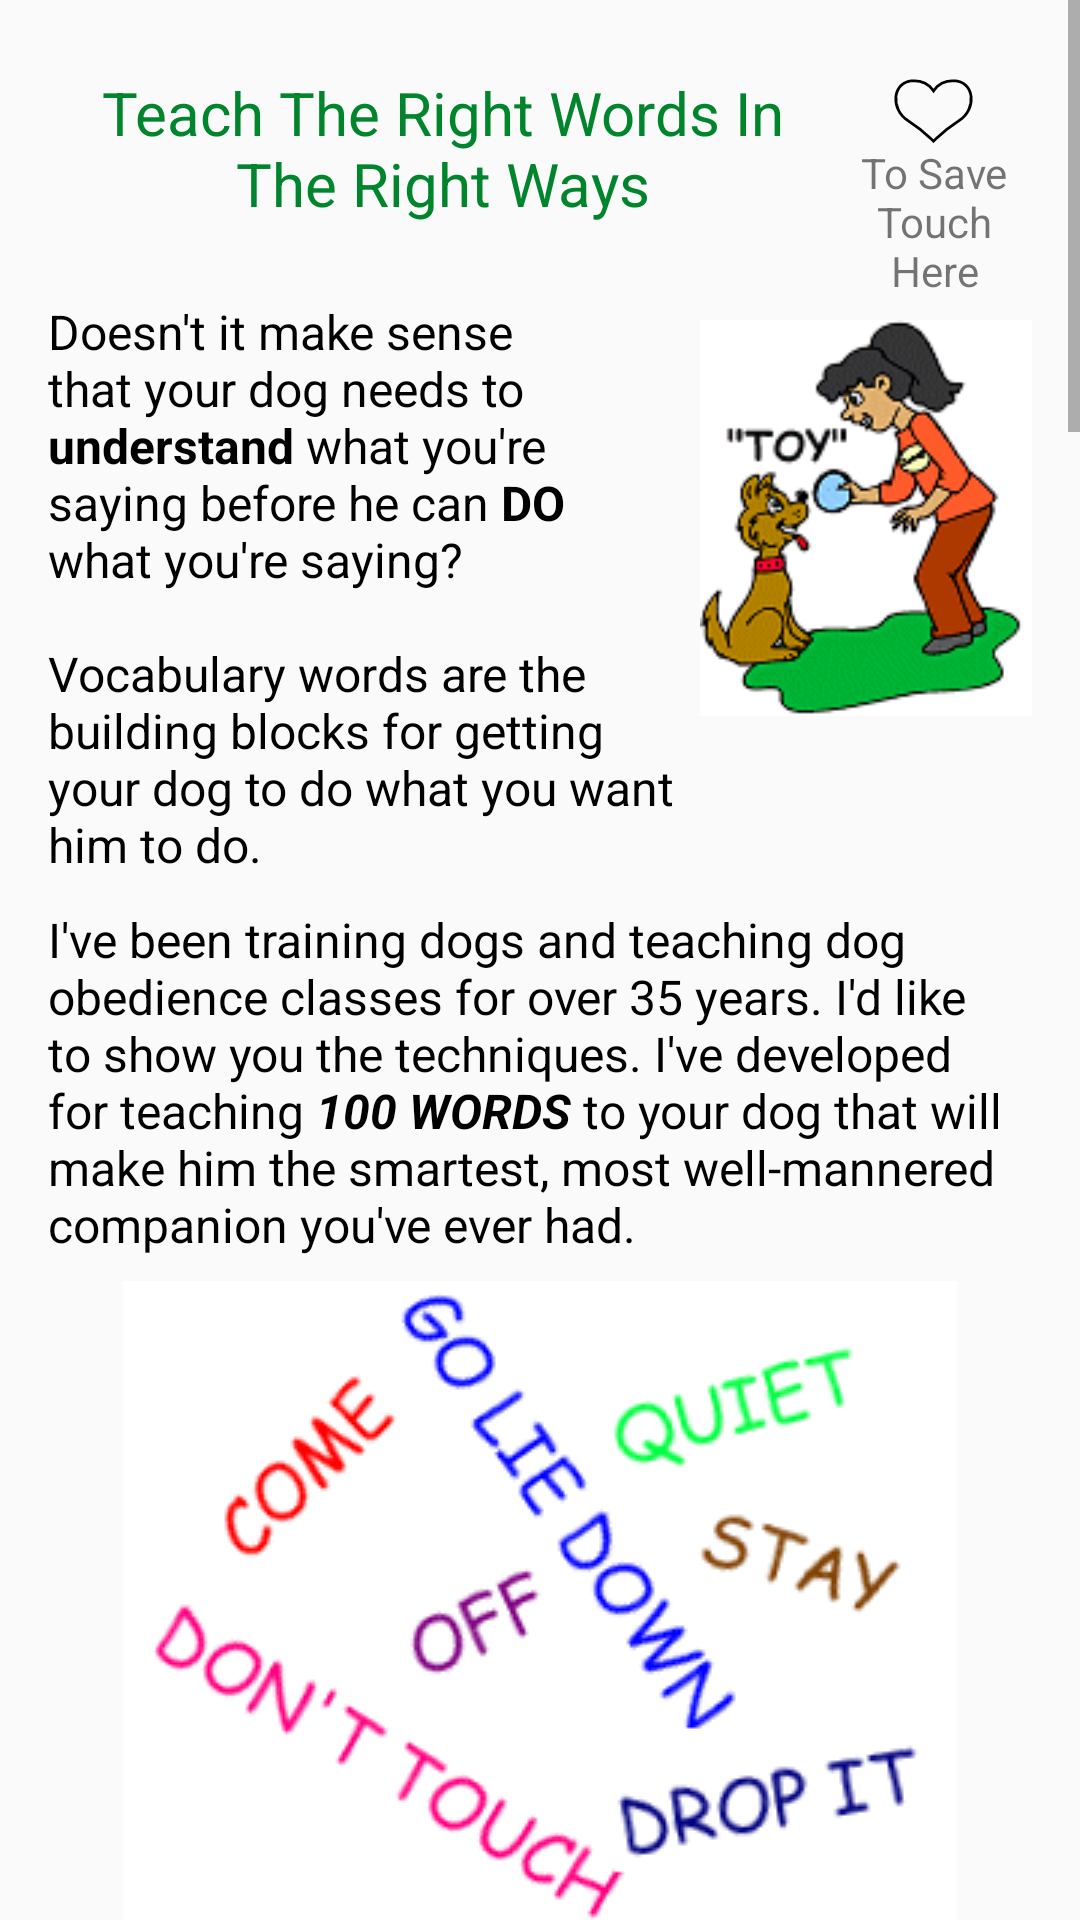

Where icons sit on this 1080 × 1920 app screen, as [left=x1, top=y1, right=x2, bottom=y2]:
favorite: [left=894, top=79, right=973, bottom=143]
